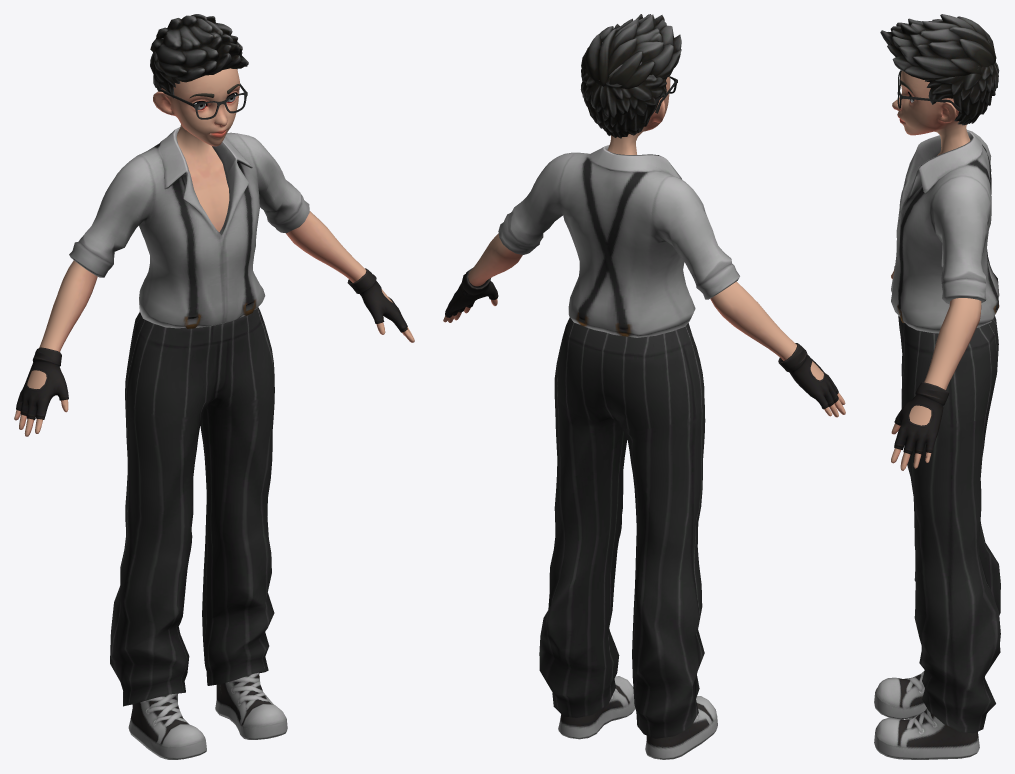
Rendered from StaffAsianMan_Mesh.obj.
3 renders of one model, left to right at view 1: azimuth 30°, elevation 25°; view 2: azimuth 150°, elevation 25°; view 3: azimuth 270°, elevation 25°, orthographic.
Parts seen in each view (by area): view 1: StaffAsianMan_Mesh_0; view 2: StaffAsianMan_Mesh_0; view 3: StaffAsianMan_Mesh_0.
Part boxes in pixels (left/top/right/bottom): StaffAsianMan_Mesh_0: left=14, top=14, right=414, bottom=759; StaffAsianMan_Mesh_0: left=443, top=14, right=845, bottom=759; StaffAsianMan_Mesh_0: left=874, top=14, right=1000, bottom=759.
Size of the model in its own units: 1.06 by 1.84 by 0.2966.
1 material, 1 textured.
